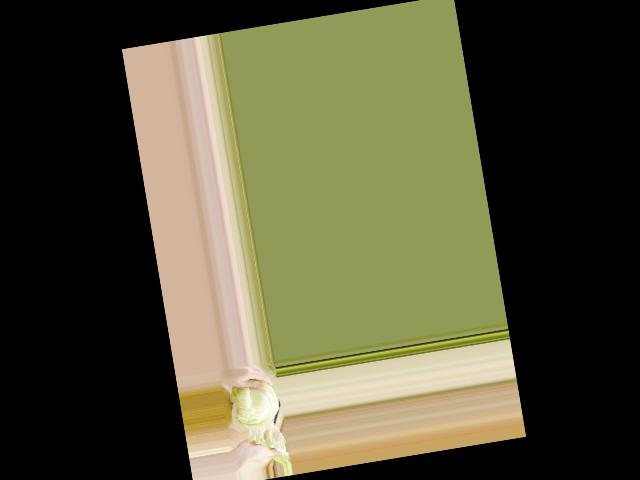lettuce: (223, 375, 285, 443)
